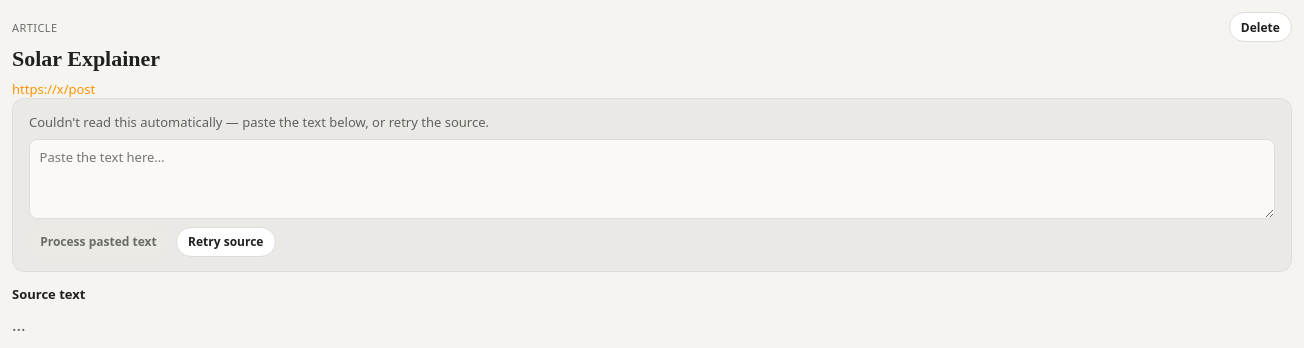
ItemDetail › reprocesses a needs_input item with pasted text
In the text box with test id "item-recover-input": (652, 179) x1=29 y1=139 x2=1275 y2=219, type "pasted article text"
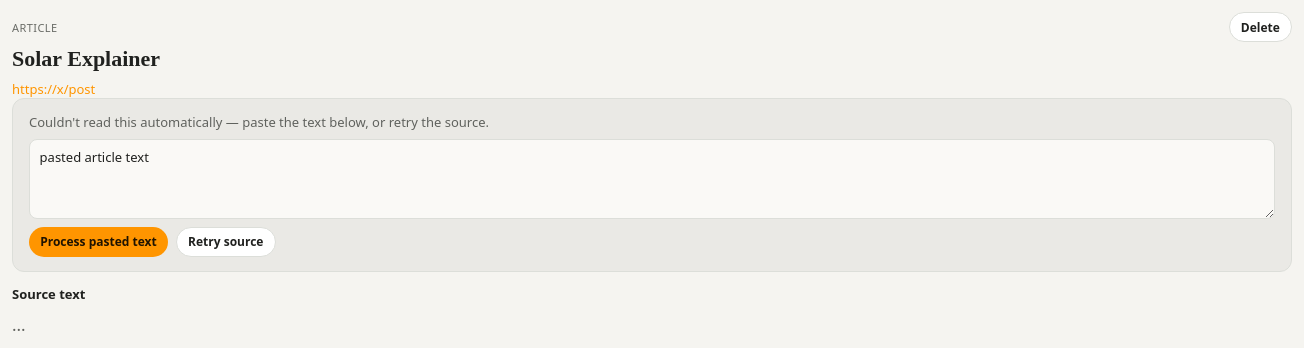
Click the button "Process pasted text": click(98, 242) x1=29 y1=227 x2=168 y2=257
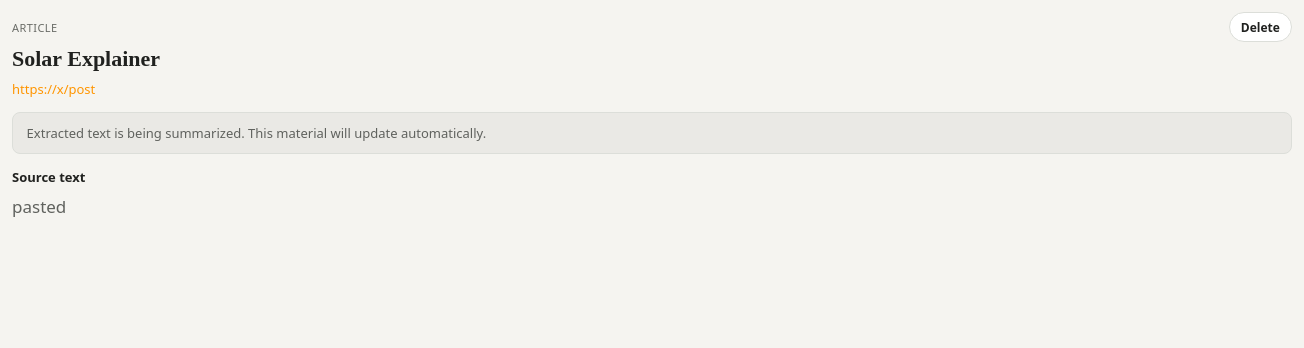
Now the text box with test id "item-recover-input" is gone
